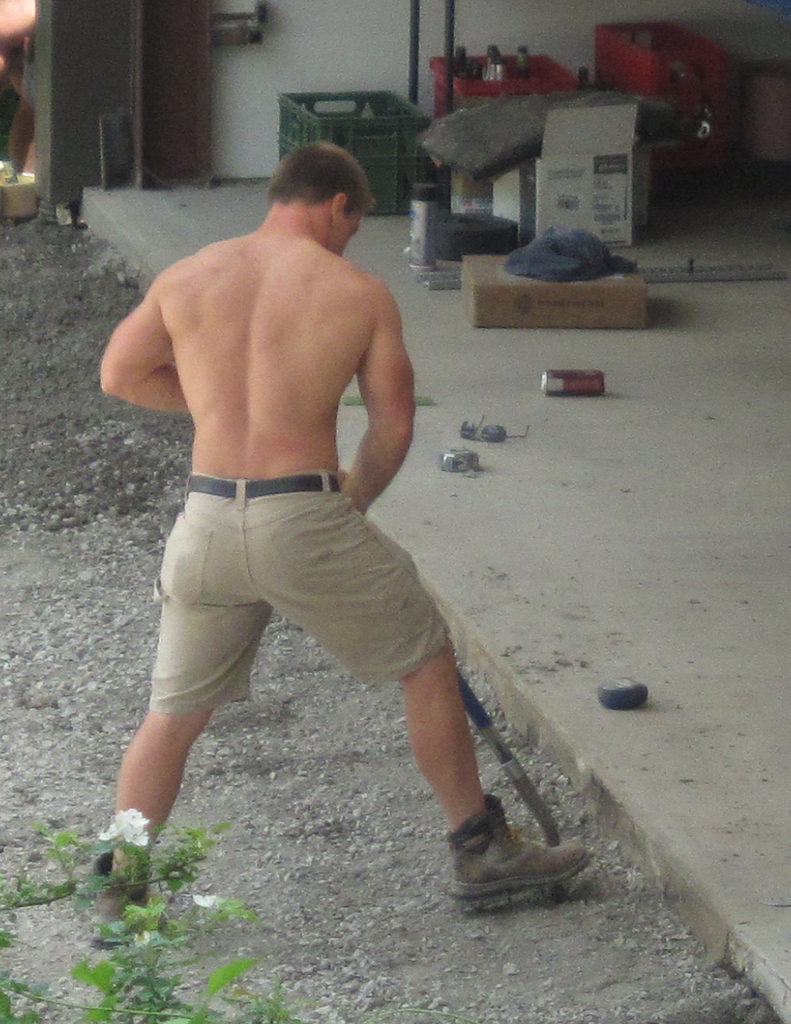Footwear: (448, 798, 605, 920)
